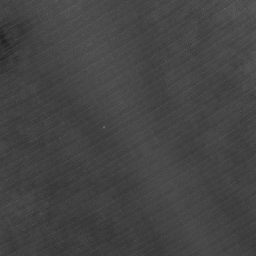Target: (101, 125, 107, 130)
